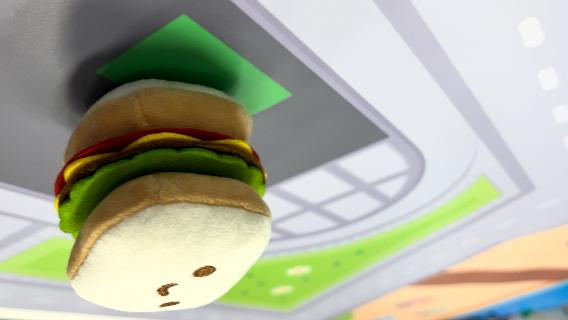sandwich: (52, 77, 274, 313)
